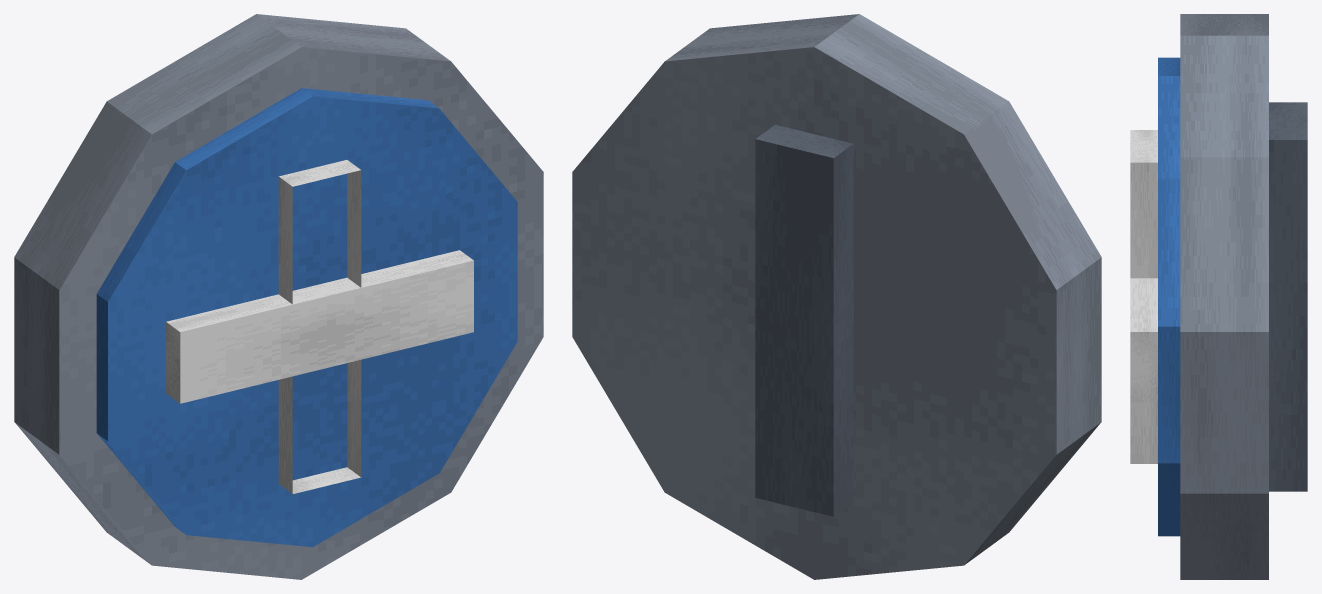
Rendered from pickup_shield.glb.
The picture shows the model from 3 angles, left to right: view 1: azimuth 30°, elevation 25°; view 2: azimuth 150°, elevation 25°; view 3: azimuth 270°, elevation 25°; orthographic projection.
Parts seen in each view (by area): view 1: pickup_shield; view 2: pickup_shield; view 3: pickup_shield.
Part boxes in pixels (box(x1,y1,x2,y2)): pickup_shield: box(14, 14, 543, 579); pickup_shield: box(572, 14, 1101, 579); pickup_shield: box(1130, 14, 1307, 579).
Size of the model in its own units: 0.9891 by 1.04 by 0.32.
1 material, 1 textured.
